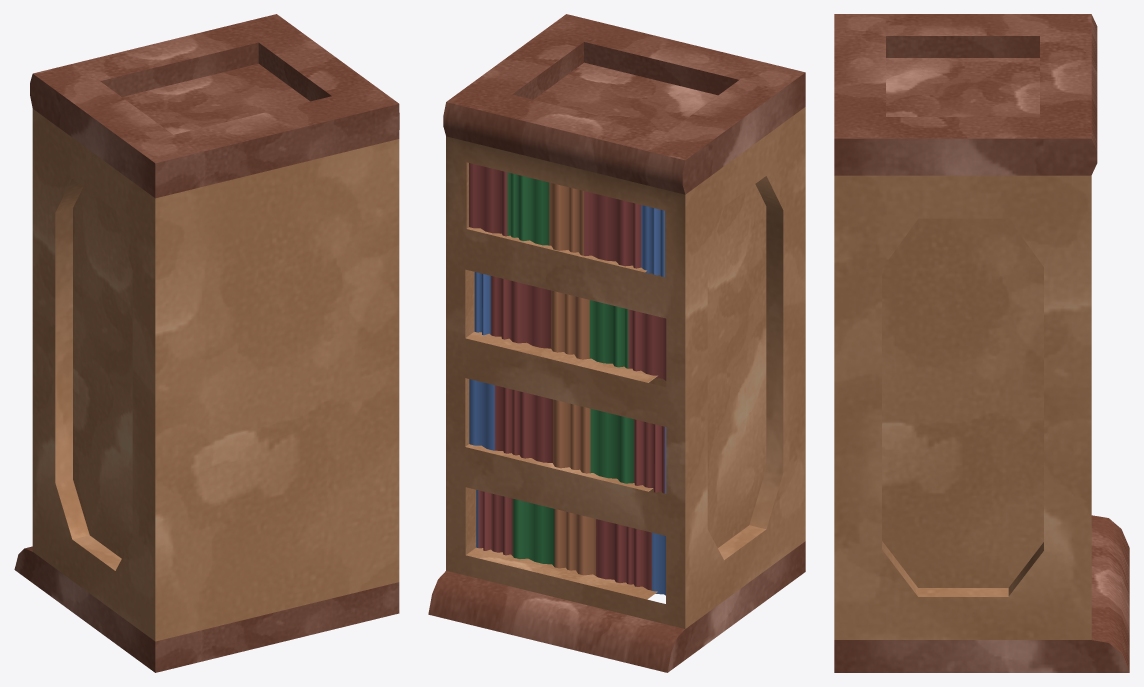
File: SM_Library_Tall.fbx
The picture shows the model from 3 angles, left to right: view 1: azimuth 30°, elevation 25°; view 2: azimuth 150°, elevation 25°; view 3: azimuth 270°, elevation 25°; orthographic projection. The views are drawn at different scales.
Visible parts, largest first — view 1: SM_Tall_Library_01; view 2: SM_Tall_Library_01; view 3: SM_Tall_Library_01.
Part boxes in pixels (box(x1,y1,x2,y2)): SM_Tall_Library_01: box(14, 14, 399, 672); SM_Tall_Library_01: box(428, 14, 805, 672); SM_Tall_Library_01: box(834, 14, 1129, 672).
Bounding box in the file's own units: 100 × 200 × 100.
Materials: 1 (1 with a texture image).
